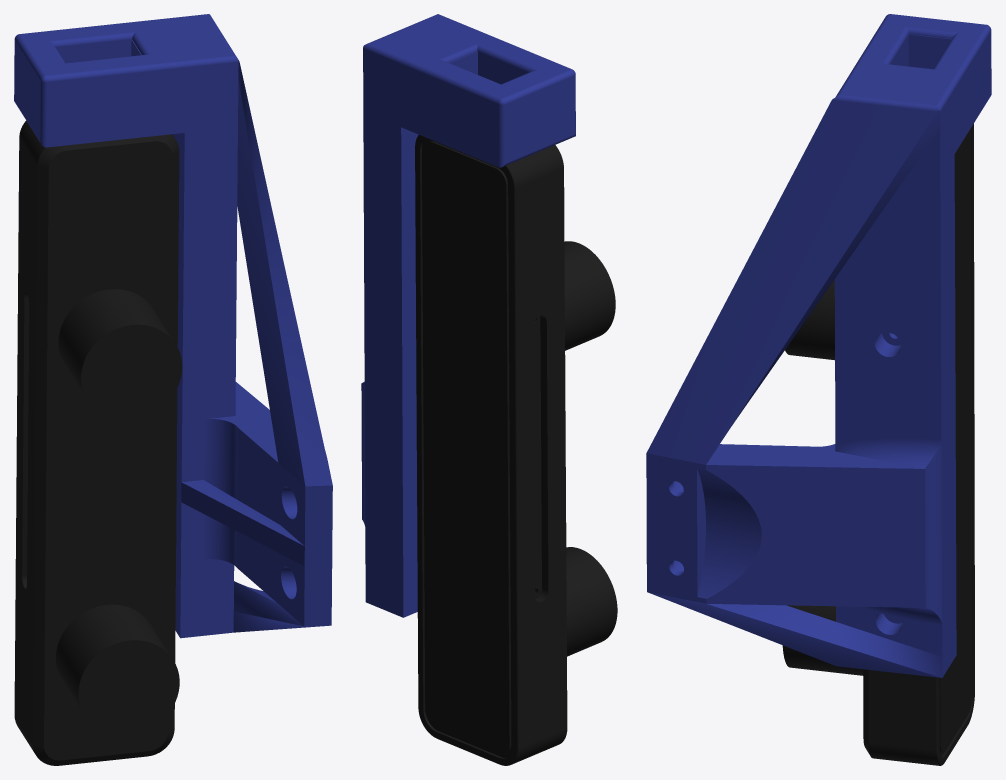
The model's file is left_realsense_link.obj.
3 renders of one model, left to right at view 1: azimuth 30°, elevation 25°; view 2: azimuth 150°, elevation 25°; view 3: azimuth 270°, elevation 25°, orthographic. The views are drawn at different scales.
Visible parts, largest first — view 1: Body1:1, Body1; view 2: Body1:1, Body1; view 3: Body1, Body1:1.
Part boxes in pixels (x1=…): Body1:1: x1=14, y1=120, x2=182, y2=765; Body1: x1=14, y1=14, x2=332, y2=638; Body1:1: x1=415, y1=135, x2=617, y2=765; Body1: x1=361, y1=14, x2=575, y2=617; Body1: x1=646, y1=14, x2=991, y2=677; Body1:1: x1=782, y1=123, x2=974, y2=765.
Bounding box in the file's own units: 0.0432 × 0.1397 × 0.0628.
